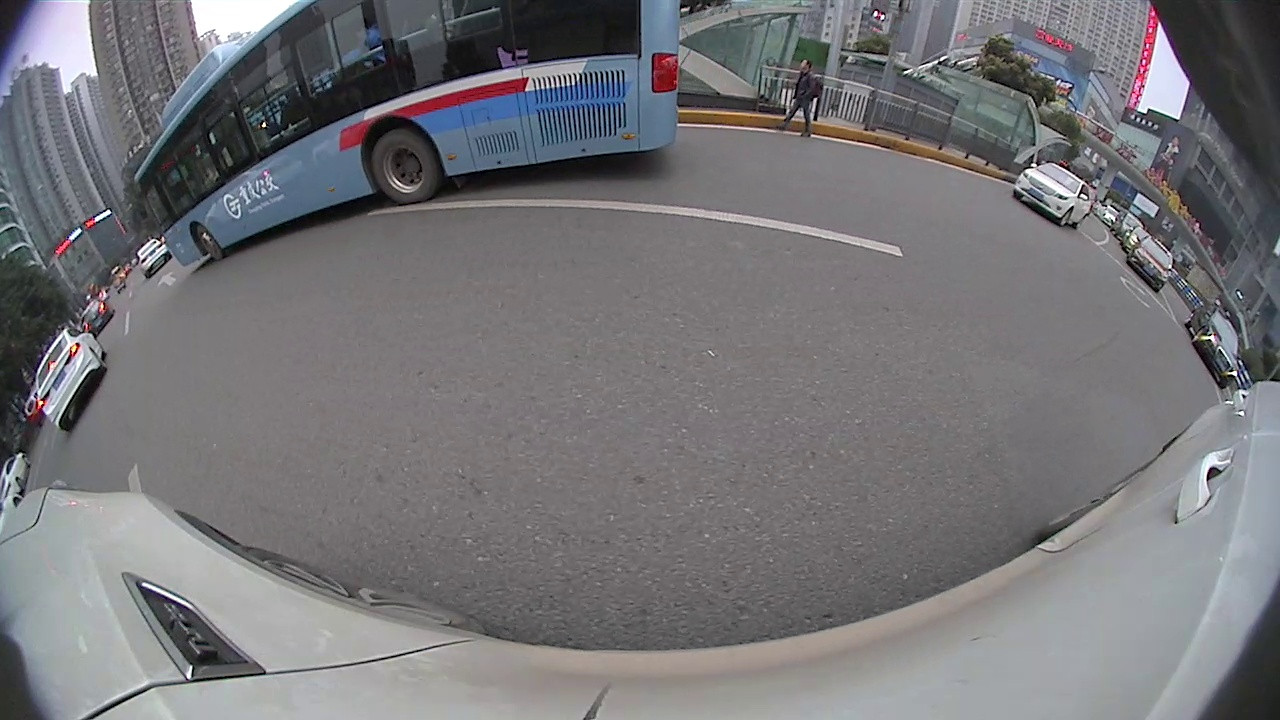bus: (133, 0, 682, 268)
car: (33, 326, 108, 433), (1013, 161, 1095, 230), (1186, 302, 1242, 388), (1125, 235, 1174, 293), (0, 451, 33, 506), (136, 239, 173, 281), (78, 296, 114, 332), (1122, 225, 1148, 258), (1116, 212, 1143, 239)
front: (194, 227, 227, 263), (1057, 205, 1076, 230), (1187, 325, 1210, 343)
person: (795, 58, 814, 137)
rear: (368, 127, 441, 203), (89, 346, 110, 368), (1183, 309, 1199, 325)
